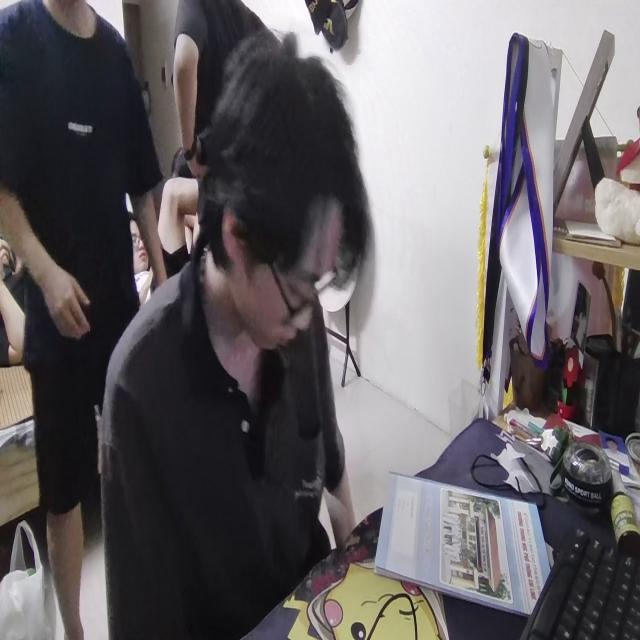book: (373, 460, 554, 622)
extra_person: (0, 0, 162, 640), (168, 0, 279, 131)
student: (101, 22, 354, 640)
